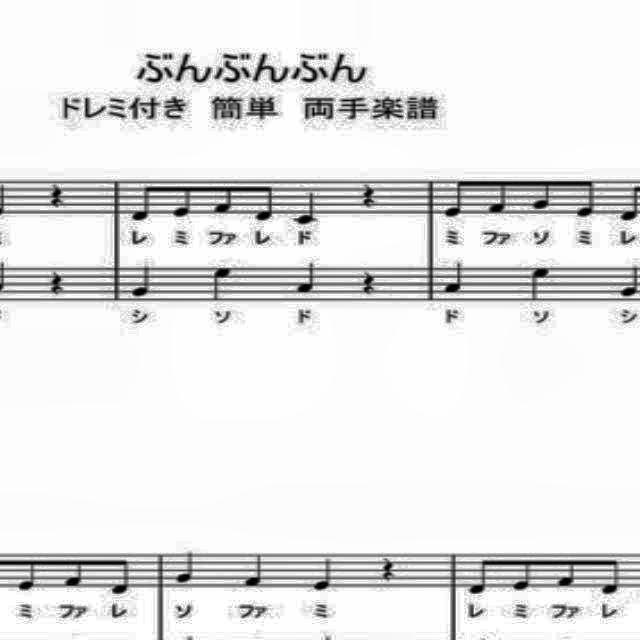Eighth-note: (12, 549, 48, 597), (168, 174, 200, 222), (482, 169, 514, 217), (126, 176, 156, 226), (466, 553, 496, 599), (438, 176, 469, 220), (212, 172, 240, 220), (248, 181, 278, 225), (595, 554, 625, 598), (56, 554, 92, 590), (528, 168, 556, 214), (106, 554, 134, 598), (553, 548, 581, 592), (571, 175, 597, 221), (510, 556, 538, 596)
Quarter-note: (240, 548, 272, 592), (309, 555, 339, 597), (171, 547, 203, 585), (204, 262, 233, 302), (294, 191, 322, 229), (132, 264, 160, 300), (295, 260, 321, 298), (526, 265, 552, 303), (443, 258, 469, 294), (618, 264, 640, 300)
Quarter-rest: (42, 264, 70, 296), (380, 552, 400, 586), (360, 180, 380, 212), (46, 180, 66, 210), (361, 266, 377, 296)
